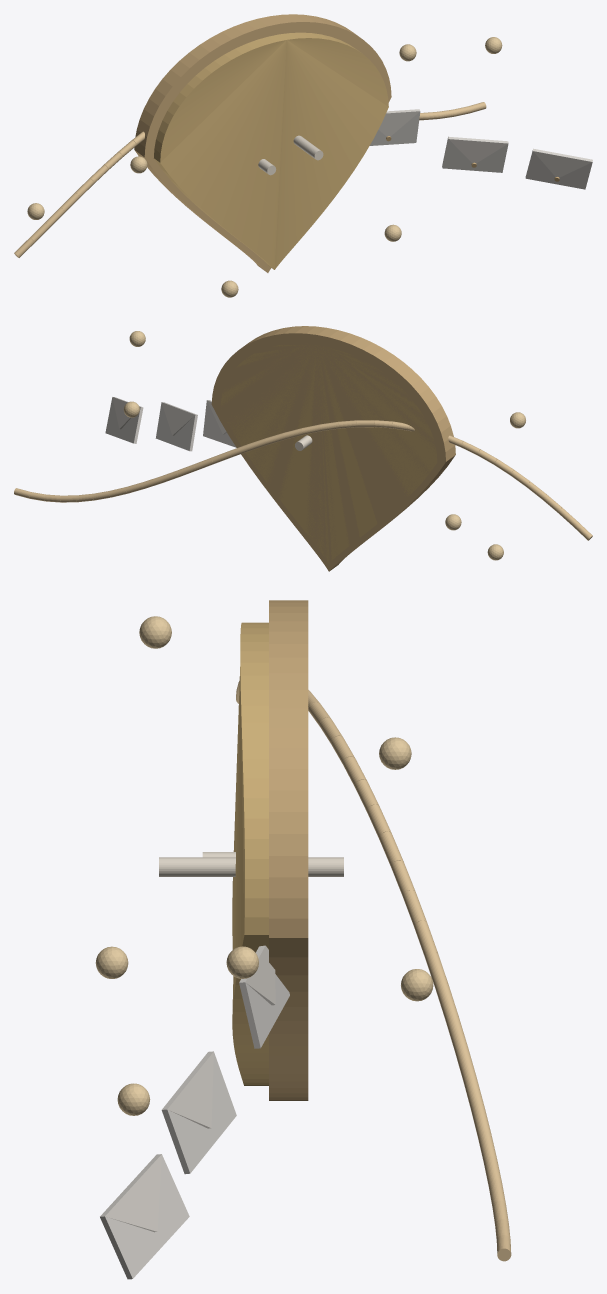
Rendered from phishshift_scene.glb.
The picture shows the model from 3 angles, top to bottom: view 1: azimuth 30°, elevation 25°; view 2: azimuth 150°, elevation 25°; view 3: azimuth 270°, elevation 25°; orthographic projection. The views are drawn at different scales.
Parts seen in each view (by area): view 1: ShieldCore, Envelope_Mid, Envelope_Trail, EnergyStream, SecurityNodes, Envelope_Lead; view 2: ShieldCore, EnergyStream, Envelope_Mid, SecurityNodes, Envelope_Trail, Envelope_Lead; view 3: ShieldCore, EnergyStream, Envelope_Trail, SecurityNodes, Envelope_Mid, Envelope_Lead.
Boxes of the visible parts, bbox=[...] form: ShieldCore: bbox=[134, 14, 391, 272]; Envelope_Mid: bbox=[442, 136, 508, 172]; Envelope_Trail: bbox=[525, 148, 592, 189]; EnergyStream: bbox=[14, 102, 486, 257]; SecurityNodes: bbox=[27, 37, 502, 297]; Envelope_Lead: bbox=[369, 109, 420, 145]; ShieldCore: bbox=[211, 326, 455, 571]; EnergyStream: bbox=[14, 420, 592, 540]; Envelope_Mid: bbox=[155, 402, 197, 451]; SecurityNodes: bbox=[123, 331, 525, 560]; Envelope_Trail: bbox=[105, 397, 143, 443]; Envelope_Lead: bbox=[203, 400, 236, 447]; ShieldCore: bbox=[159, 600, 343, 1100]; EnergyStream: bbox=[236, 681, 511, 1261]; Envelope_Trail: bbox=[100, 1154, 189, 1279]; SecurityNodes: bbox=[95, 616, 433, 1115]; Envelope_Mid: bbox=[161, 1051, 236, 1174]; Envelope_Lead: bbox=[239, 945, 289, 1048].
Bounding box in the file's own units: 5.45 × 2.38 × 1.91.
